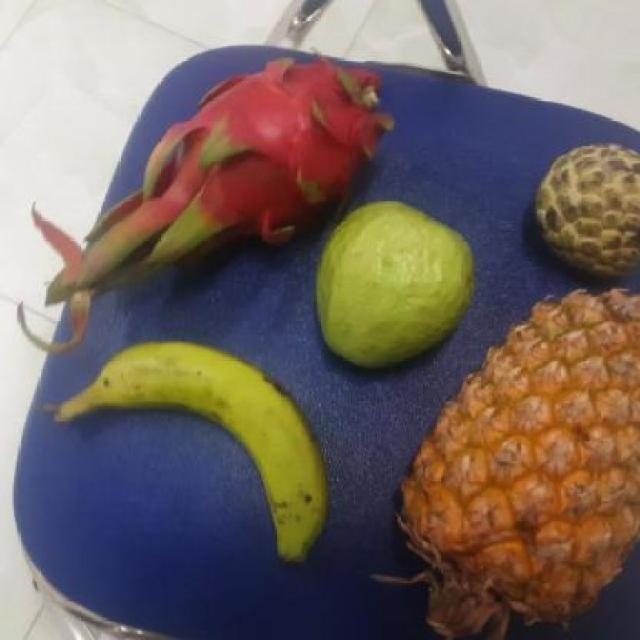banana: (56, 346, 327, 551)
dragon fruit: (168, 56, 388, 250)
guava: (307, 204, 475, 364)
sugar apple: (526, 147, 640, 281)
